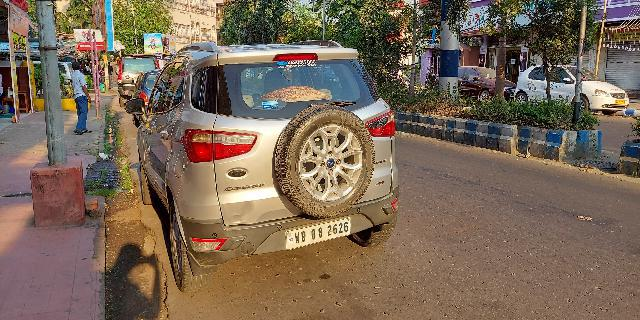Car: (137, 38, 403, 298), (114, 52, 157, 107)
